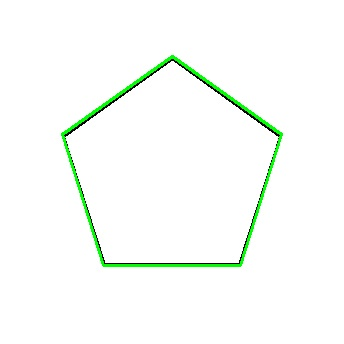line_segment: (61, 56, 283, 266)
